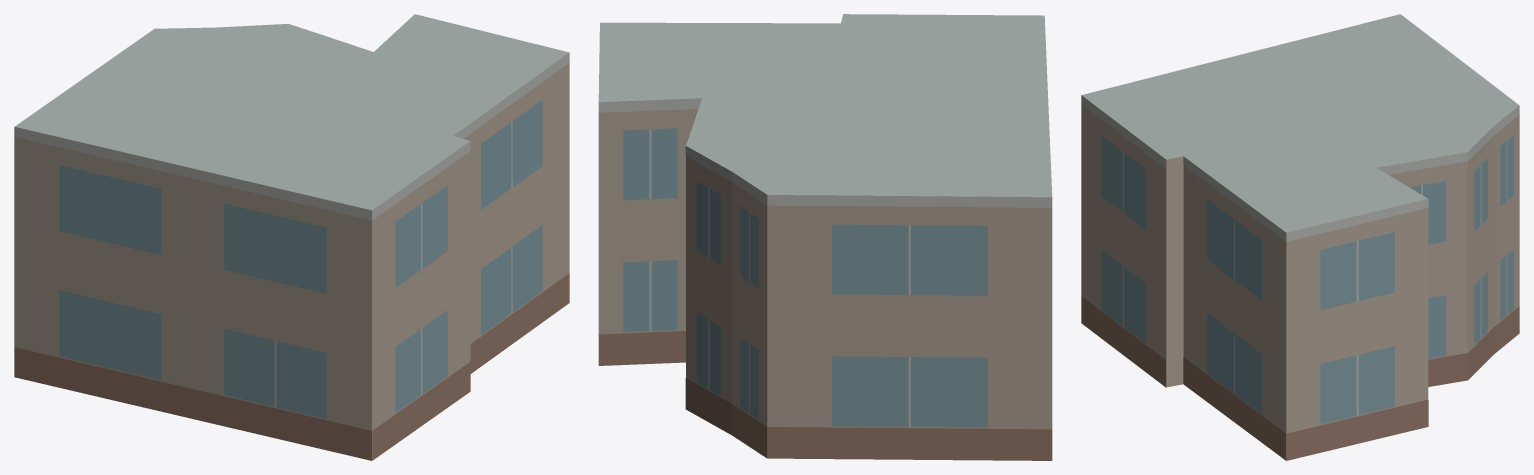
File: survey-upis-33016190.glb
3 views of the same model, side by side, from view 1: azimuth 30°, elevation 25°; view 2: azimuth 150°, elevation 25°; view 3: azimuth 270°, elevation 25° (orthographic). The views are drawn at different scales.
Visible parts, largest first — view 1: survey-upis-33016190.tmp; view 2: survey-upis-33016190.tmp; view 3: survey-upis-33016190.tmp.
Part boxes in pixels (x1,y1,x2,y2): survey-upis-33016190.tmp: [14, 14, 569, 460]; survey-upis-33016190.tmp: [598, 14, 1052, 460]; survey-upis-33016190.tmp: [1081, 14, 1519, 460].
Bounding box in the file's own units: 12.56 × 6.1 × 10.63.
